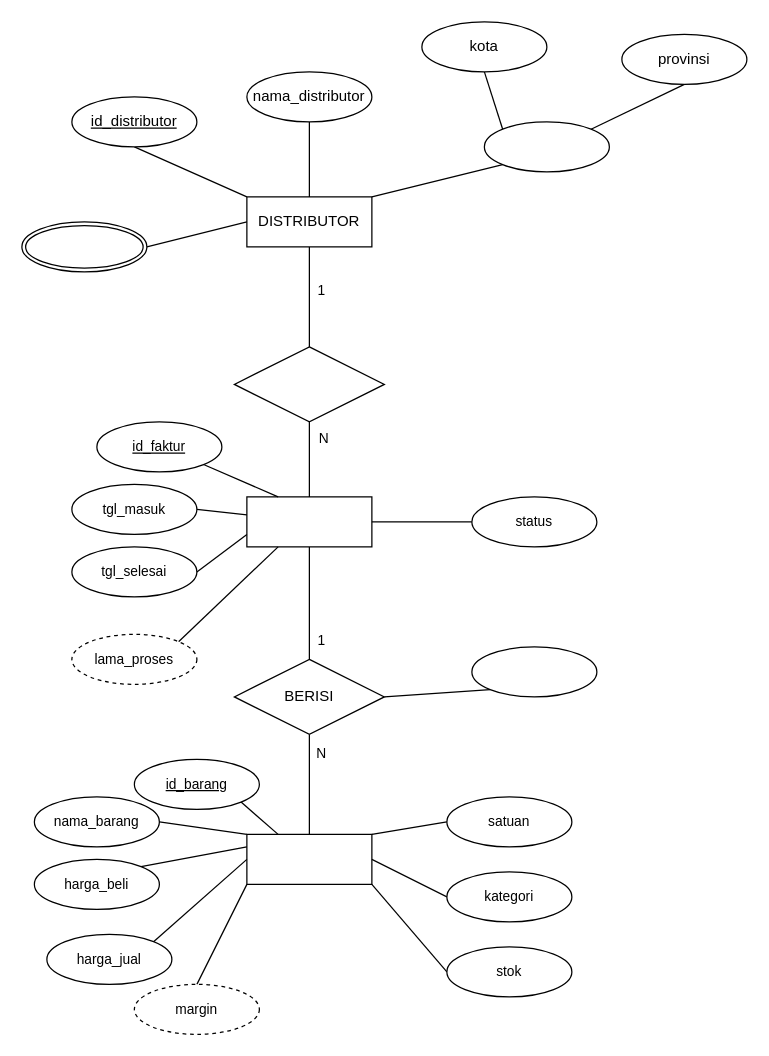
Image size: 769x1056. Some labels were removed from this diagram. The centre of each missing label's shape, as x and y in pixels:
"alamat" belongs at [546,146].
"BARANG" belongs at [309,858].
"FAKTUR" belongs at [309,521].
"jumlah_beli" belongs at [534,671].
"MENGIRIM" belongs at [308,384].
"no_telepon" belongs at [84,246].
